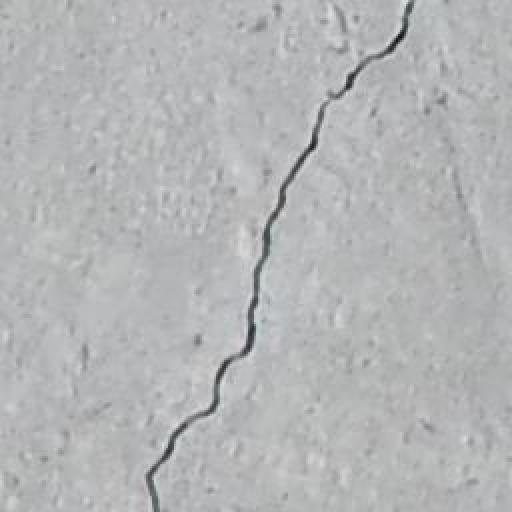spalling: (125, 4, 429, 509)
